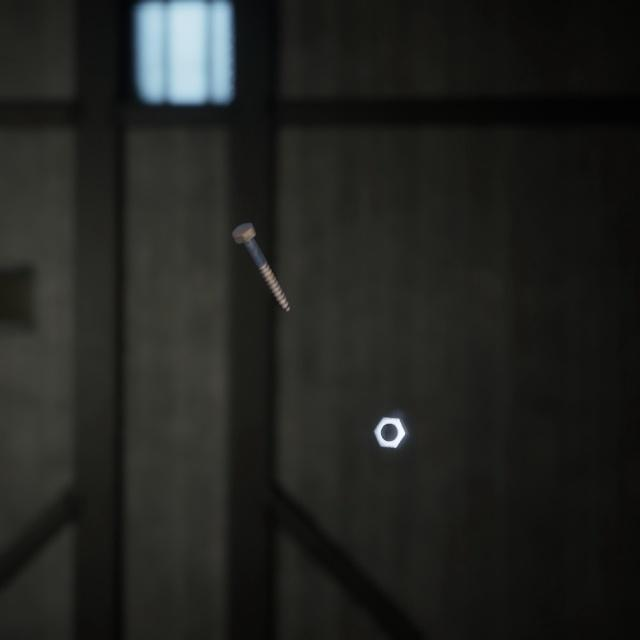bolt: (227, 201, 294, 299), (319, 617, 409, 640)
nut: (369, 393, 414, 433)
